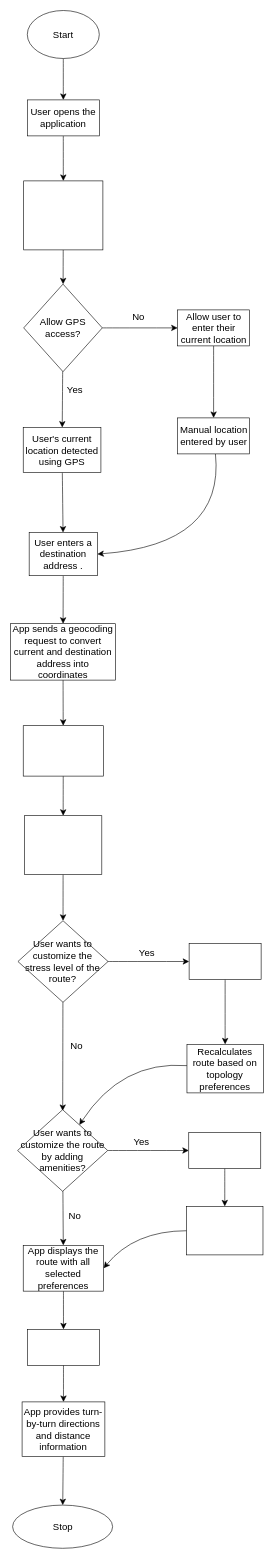
Some shapes in this 274 by 1559 pixel diagram are drawn without their labels. The shapes that lost their labels are listed below. From the top down, each one's centre as x and y in pixels, then its label:
point (63, 215): Application initializes and checks for required permissions
point (63, 750): App sends a routing request to find the shortest bike route
point (63, 844): Default bike route displayed on the map. (All topologies toggled)
point (225, 961): User adjusts topology preferences
point (224, 1150): User adjusts amenity preferences
point (224, 1230): Displays amenity preferences on the route
point (63, 1347): User clicks on start navigation
